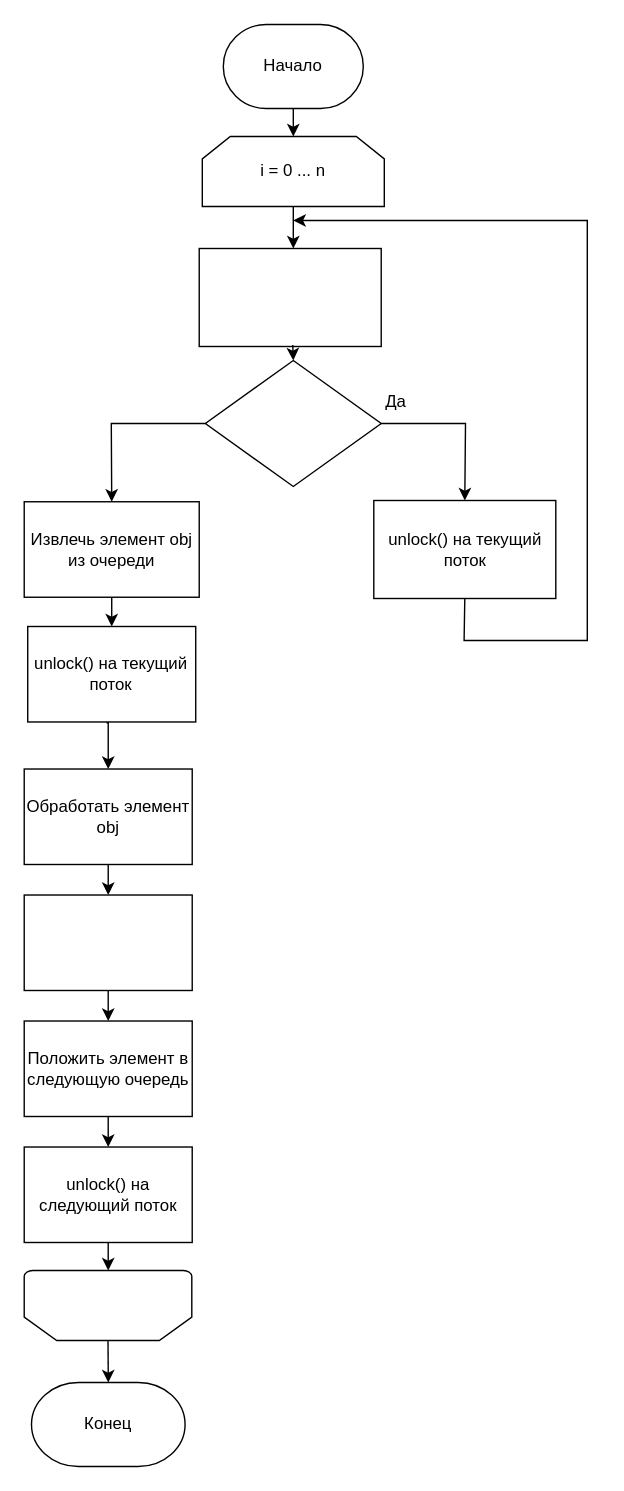
The diagram is 624 pixels wide and 1491 high, and some of its shapes have lost their labels. Here are the shapes that lost their labels. From the top down, the box of each, then its label:
(198, 247, 381, 346): lock() на текущий поток
(204, 359, 381, 486): Очередь пустая?
(23, 894, 192, 990): lock() на следующий поток
(23, 1269, 192, 1340): i++
